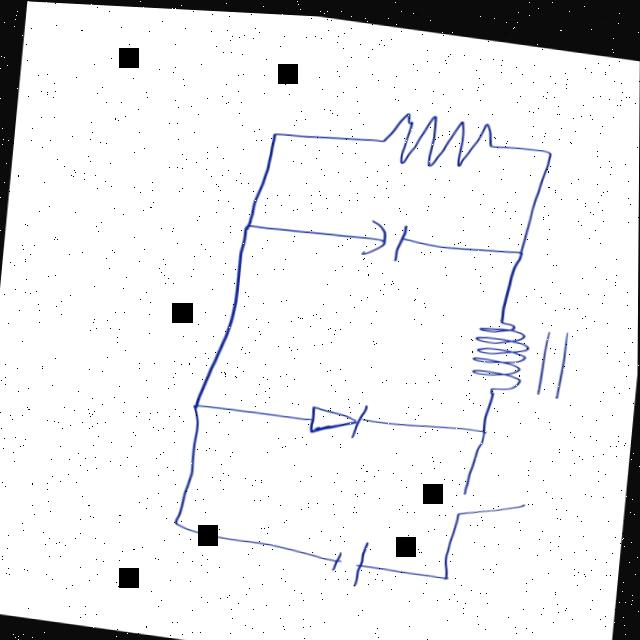capacitor: (347, 206, 430, 270)
diode: (284, 385, 391, 441)
inductor: (460, 296, 577, 396)
resistor: (353, 88, 518, 182)
source: (310, 524, 382, 591)
switch: (432, 458, 533, 532)
